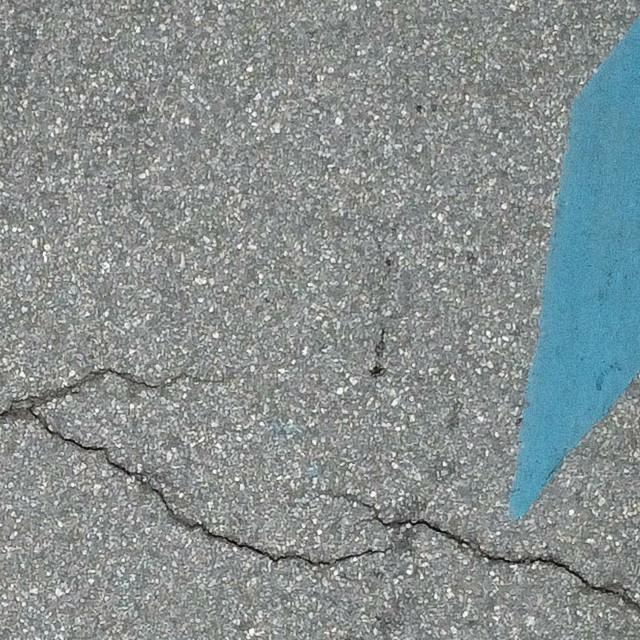TransverseCrack: (1, 370, 393, 565), (314, 491, 640, 609)
